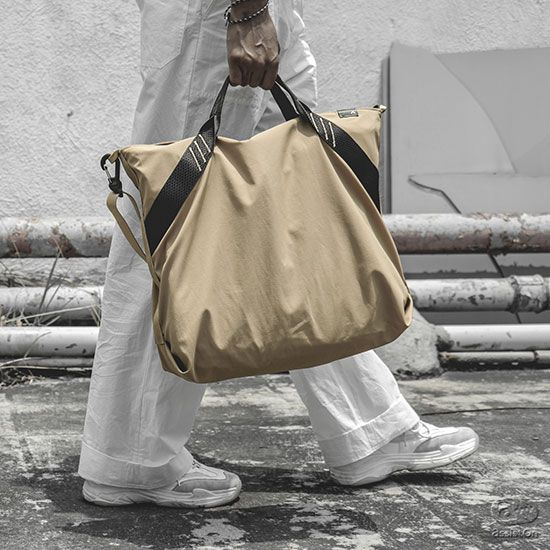nylon: (99, 70, 414, 383)
